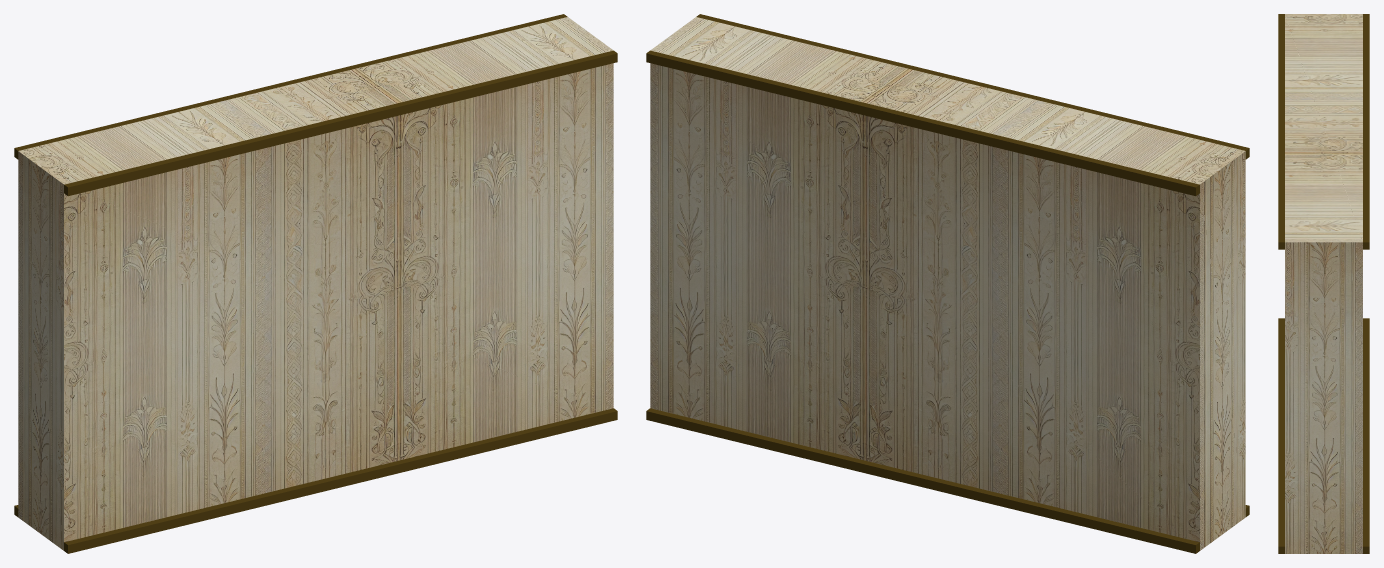
Rendered from ConnectWall_2.fbx.
3 renders of one model, left to right at view 1: azimuth 30°, elevation 25°; view 2: azimuth 150°, elevation 25°; view 3: azimuth 270°, elevation 25°, orthographic. The views are drawn at different scales.
Visible parts, largest first — view 1: Cube.057, Cube.059, Cube.058; view 2: Cube.057, Cube.059, Cube.058; view 3: Cube.057, Cube.058, Cube.059.
Part boxes in pixels (x1,y1,x2,y2): Cube.057: (18, 17, 613, 550); Cube.059: (14, 14, 617, 196); Cube.058: (14, 408, 617, 553); Cube.057: (650, 17, 1245, 550); Cube.059: (646, 14, 1249, 196); Cube.058: (646, 408, 1249, 553); Cube.057: (1285, 14, 1362, 553); Cube.058: (1278, 318, 1369, 553); Cube.059: (1278, 14, 1369, 249).
Bounding box in the file's own units: 1381 × 880 × 234.
